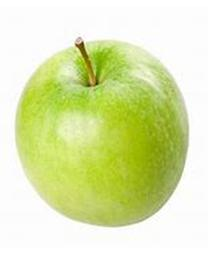apple: (13, 36, 189, 226)
